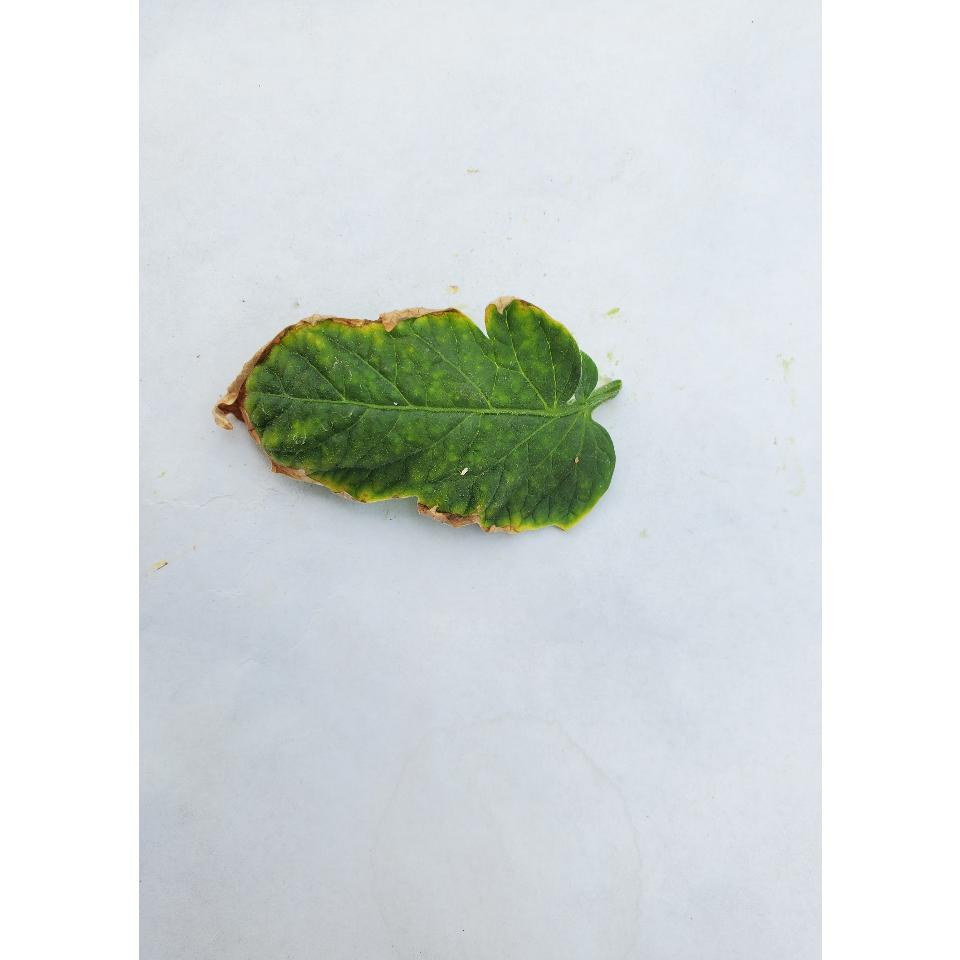tomato_bacterial_blight: (208, 284, 634, 536)
